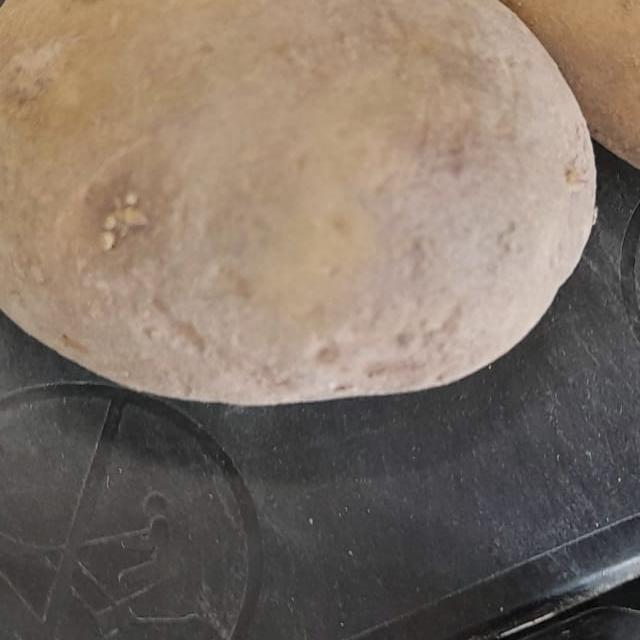potato: (0, 0, 627, 417)
